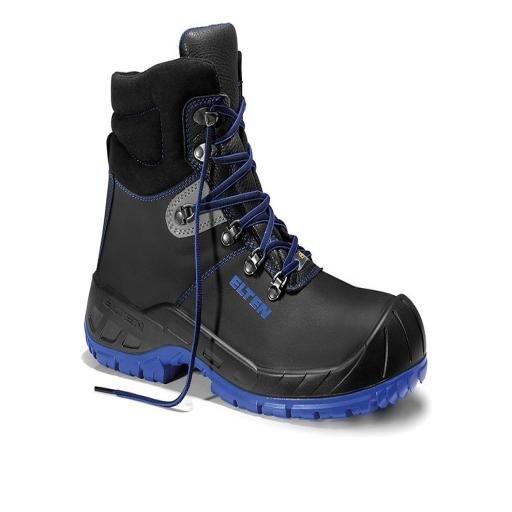safety_boots: (69, 175, 436, 429)
